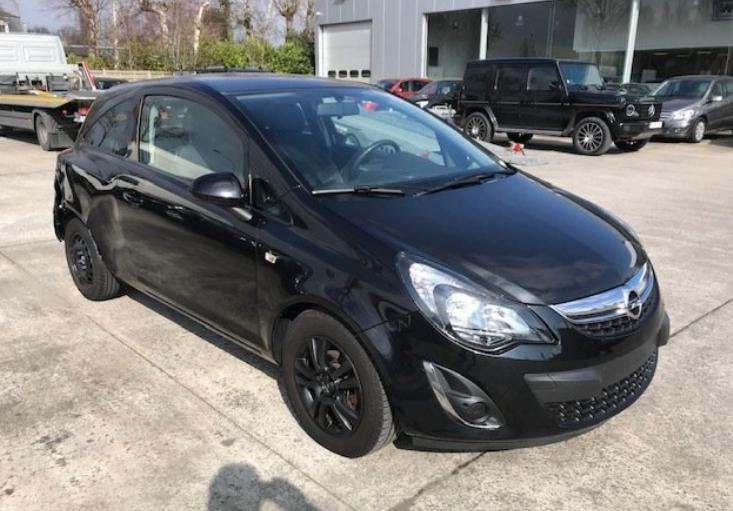Back-wheel: (65, 220, 119, 301)
Back-window: (83, 94, 141, 163)
Fender: (255, 182, 415, 356)
Front-bumper: (356, 298, 669, 449)
Front-door: (118, 87, 263, 342)
Front-wheel: (280, 311, 394, 456)
Front-window: (139, 94, 249, 199), (256, 173, 289, 221)
Grille: (551, 263, 660, 338)
Headlight: (398, 252, 551, 359)
Hood: (317, 164, 647, 305)
Mirror: (195, 173, 246, 202)
Quarter-panel: (55, 135, 125, 273)
Rocker-panel: (116, 272, 275, 363)
Roof: (135, 73, 372, 95)
Trunk: (78, 78, 168, 135)
Windshield: (231, 87, 503, 196)
